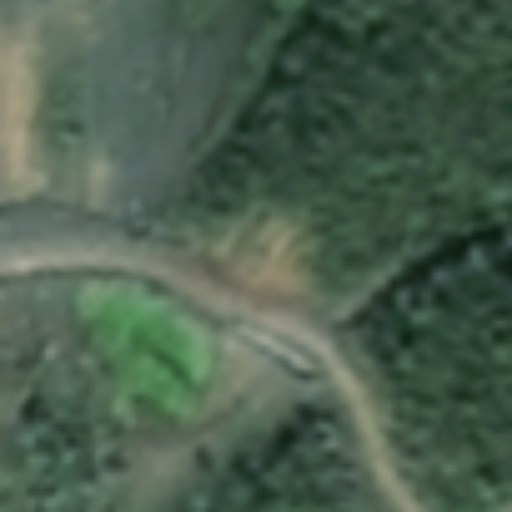landslide: (225, 220, 319, 290)
